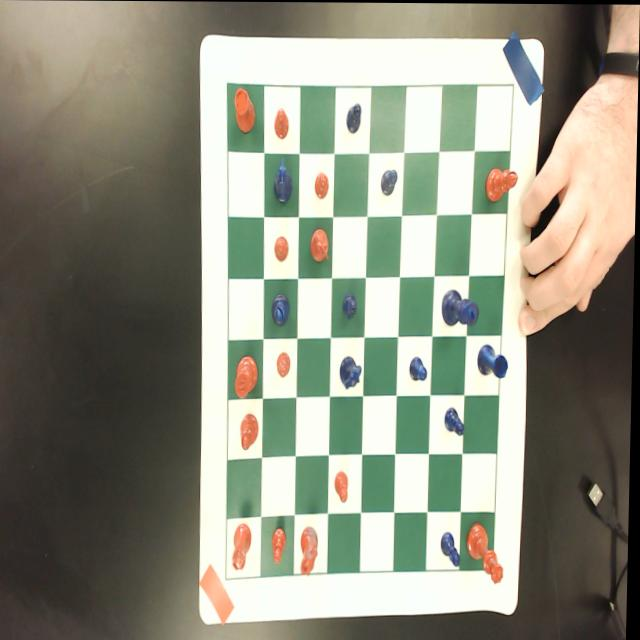B: (271, 292, 293, 327)
K: (442, 286, 480, 327)
N: (273, 157, 294, 205), (340, 355, 365, 391)
P: (442, 530, 464, 566), (446, 407, 467, 437), (410, 355, 431, 382), (381, 167, 400, 196), (347, 103, 362, 133), (343, 294, 360, 319)
R: (478, 342, 511, 379)
b: (486, 165, 519, 202), (242, 412, 261, 451)
cb: (228, 83, 514, 580)
k: (236, 354, 260, 399)
n: (301, 527, 321, 577), (310, 228, 332, 264)
p: (274, 526, 289, 564), (275, 108, 290, 142), (336, 470, 350, 504), (275, 236, 290, 264), (315, 172, 330, 199), (278, 350, 292, 378)
q: (468, 522, 507, 584)
r: (234, 85, 257, 136), (234, 524, 255, 572)
